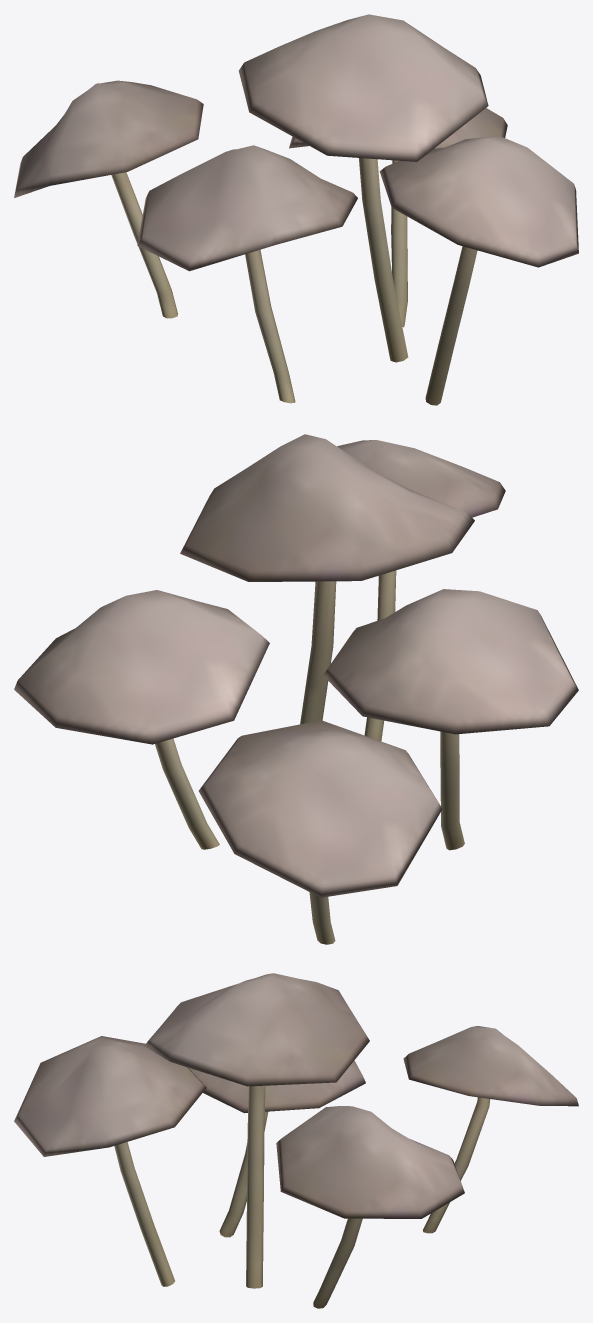
File: mushroom-1.glb
3 renders of one model, top to bottom at view 1: azimuth 30°, elevation 25°; view 2: azimuth 150°, elevation 25°; view 3: azimuth 270°, elevation 25°, orthographic. The views are drawn at different scales.
Visible parts, largest first — view 1: Mushroom_Common; view 2: Mushroom_Common; view 3: Mushroom_Common.
Part boxes in pixels (bbox=[...]): Mushroom_Common: bbox=[14, 14, 578, 405]; Mushroom_Common: bbox=[14, 434, 578, 944]; Mushroom_Common: bbox=[14, 973, 578, 1308].
Bounding box in the file's own units: 0.2432 × 0.2 × 0.3362.
Materials: 1 (1 with a texture image).
